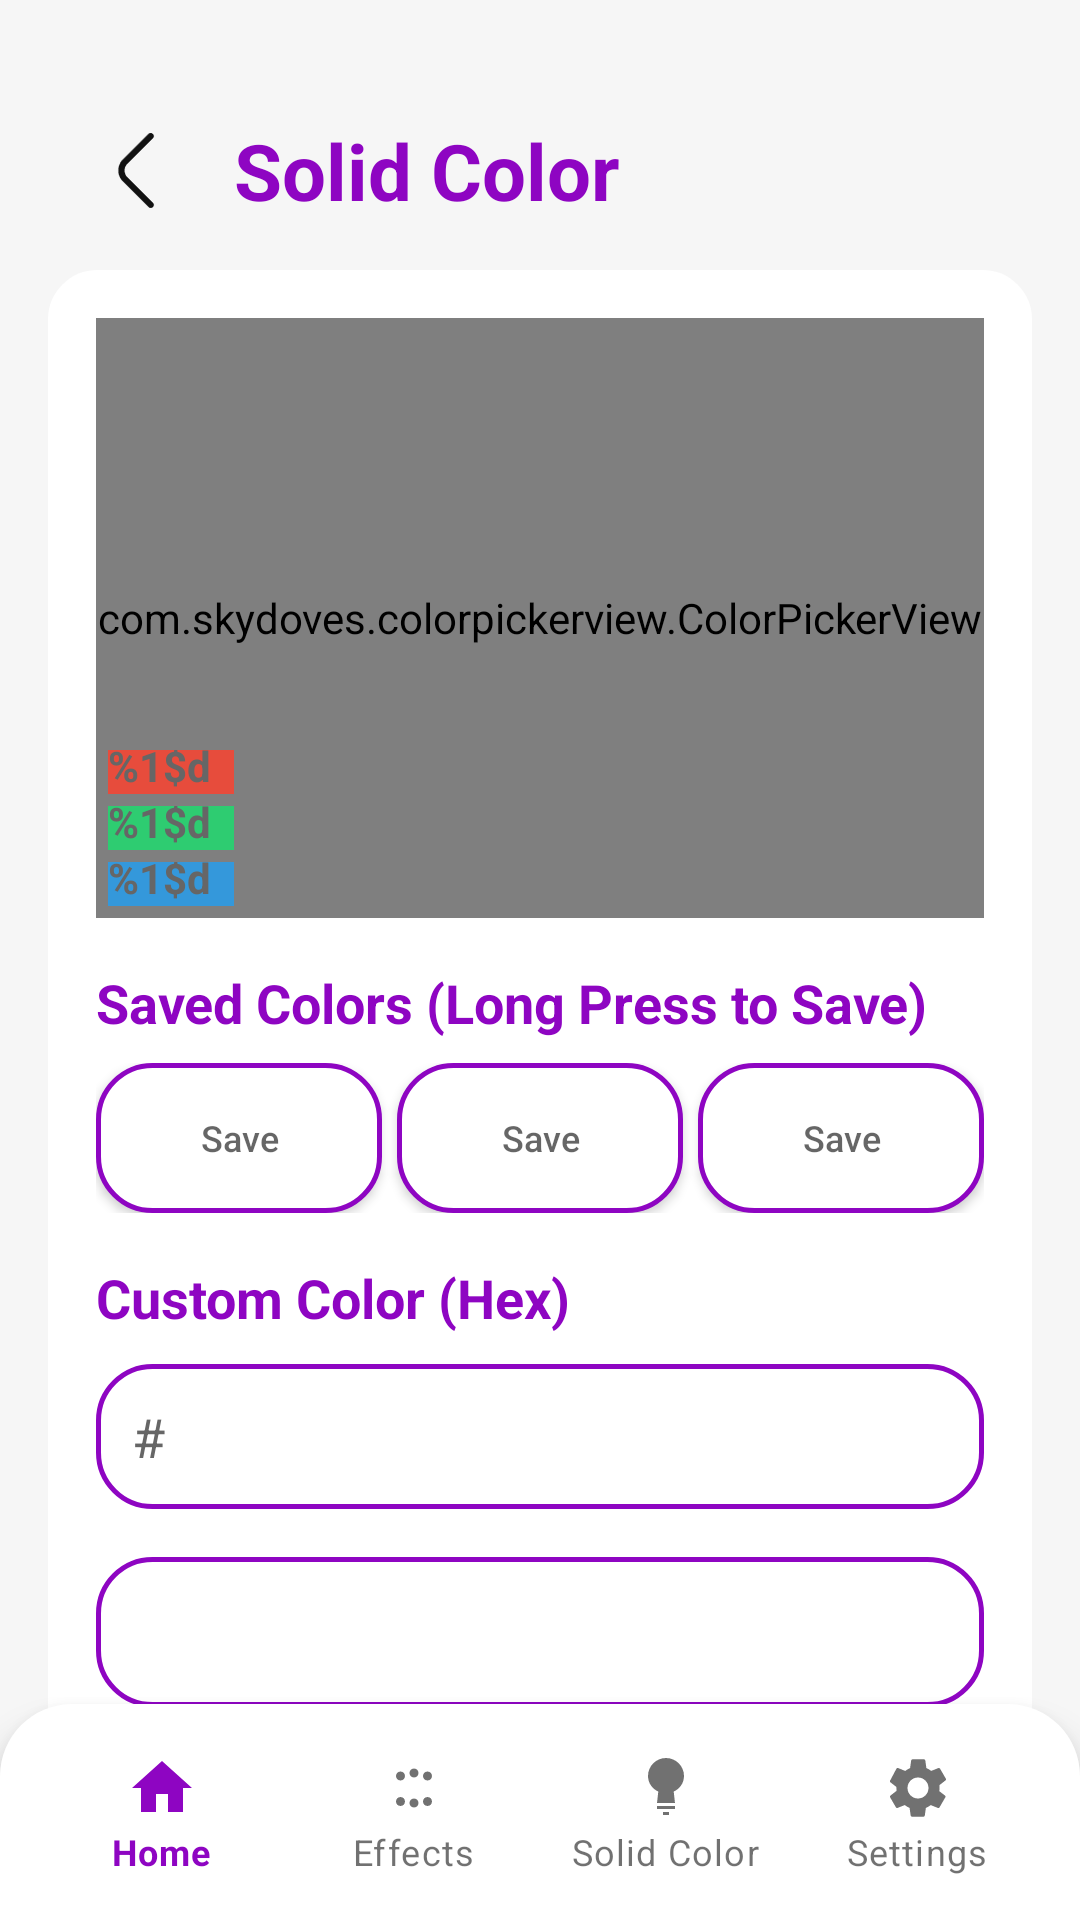

Icons on this 1080x1920 Android screen, each with the point to tap as [x,y]:
Back Button: [136,170]
